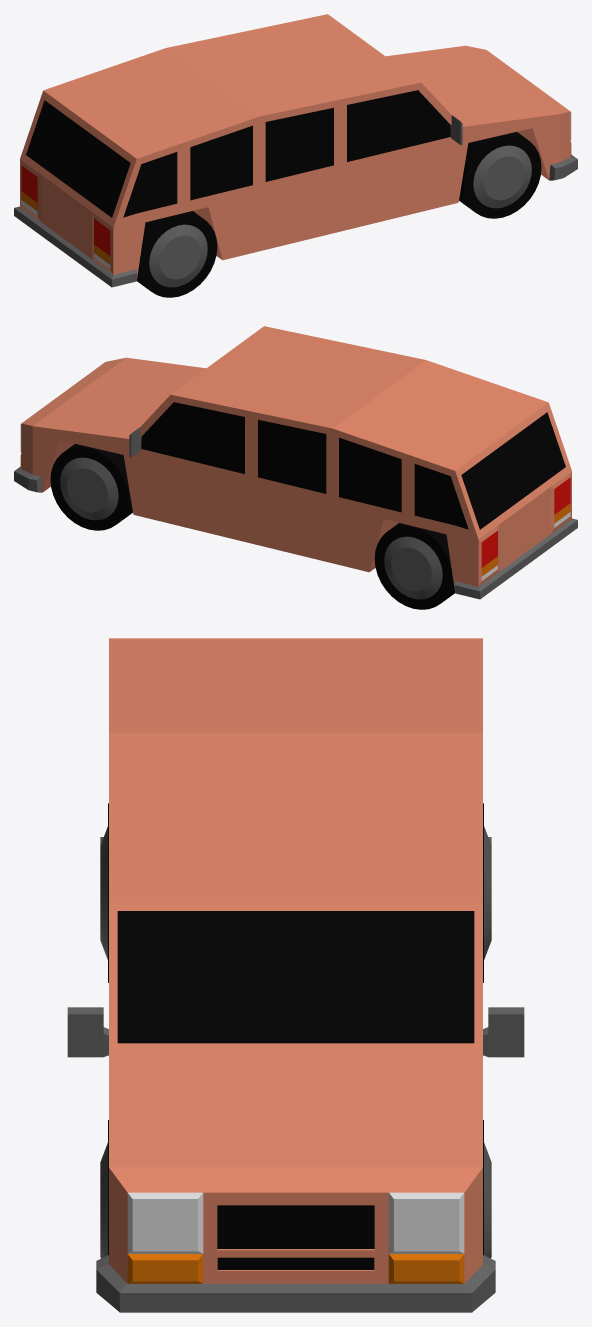
File: car.fbx
3 renders of one model, top to bottom at view 1: azimuth 30°, elevation 25°; view 2: azimuth 150°, elevation 25°; view 3: azimuth 270°, elevation 25°, orthographic. The views are drawn at different scales.
Visible parts, largest first — view 1: Cube; view 2: Cube; view 3: Cube.
Part boxes in pixels (bbox=[...]): Cube: bbox=[14, 14, 577, 297]; Cube: bbox=[14, 326, 577, 609]; Cube: bbox=[67, 638, 524, 1312].
Bounding box in the file's own units: 581 × 189 × 244.
